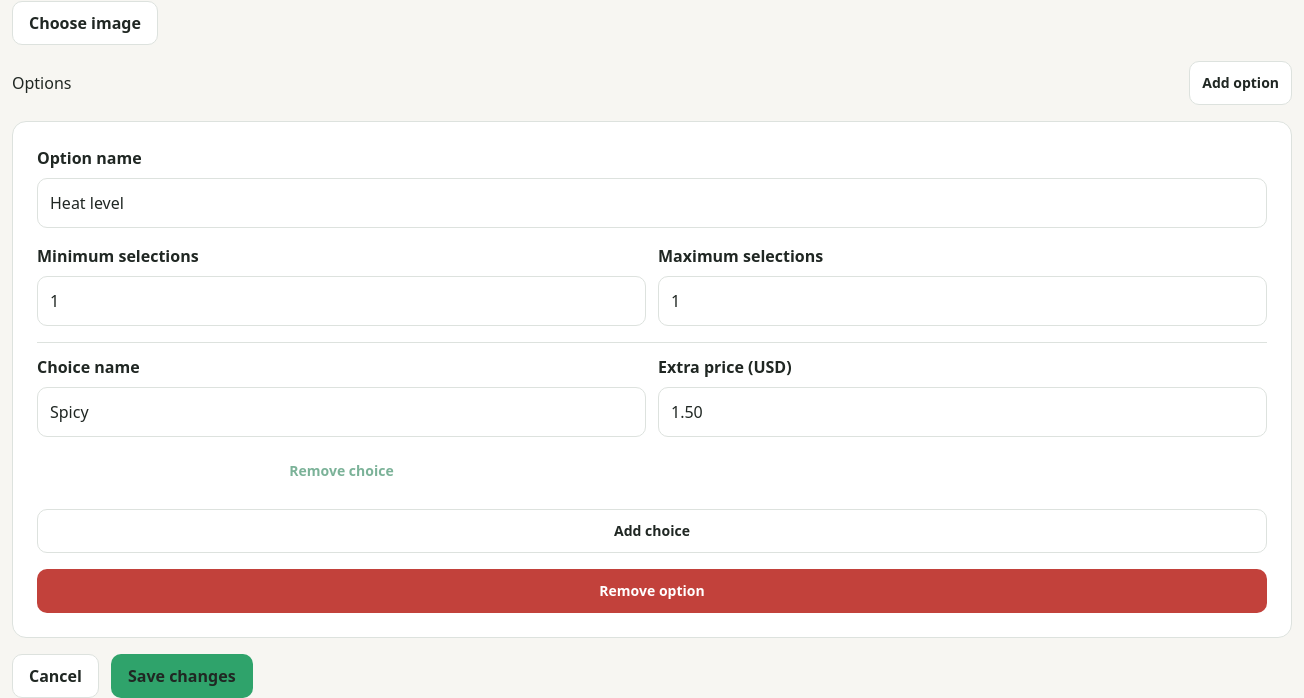
Scenario: DishForm field arrays › warns when removing an existing option without mutating the dish snapshot
The width and height of the screenshot is (1304, 698).
(page scrolled)
Click the button "Remove option": (652, 591) top-left (37, 569), bottom-right (1267, 613)
(page scrolled)
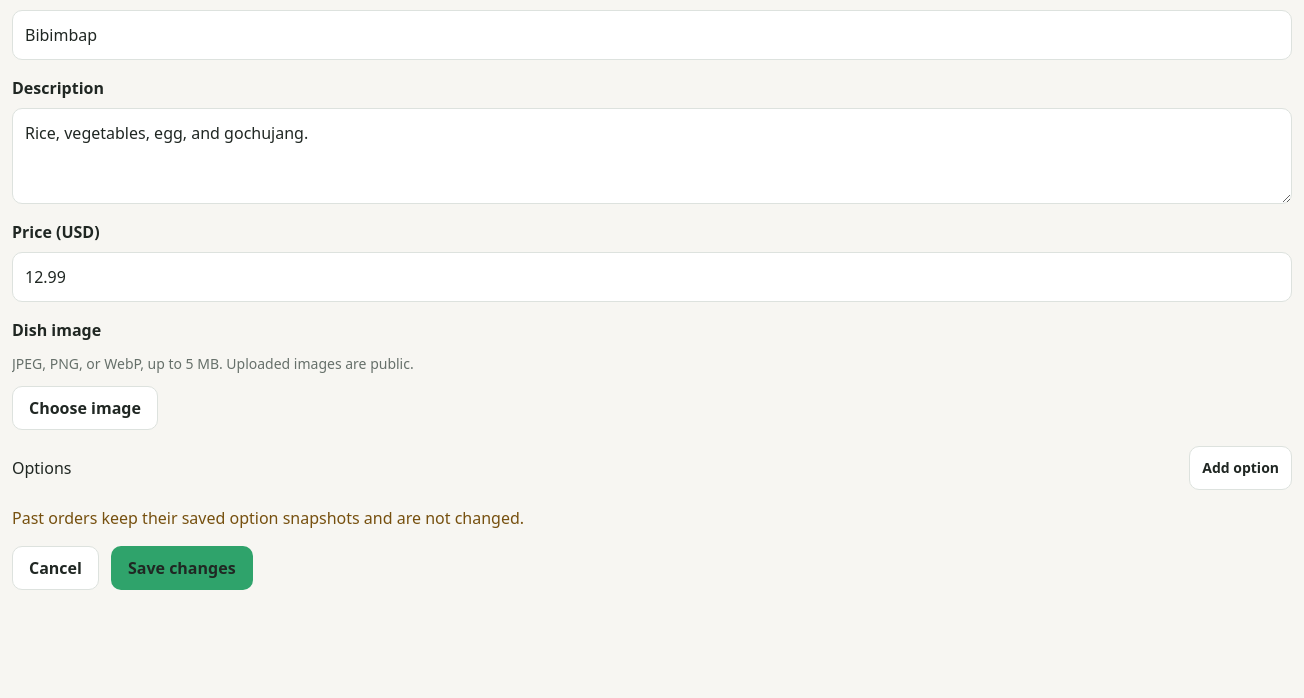
Now the text "Past orders keep their saved option snapshots and are not changed." is shown, box top-left (12, 507), bottom-right (524, 529)
